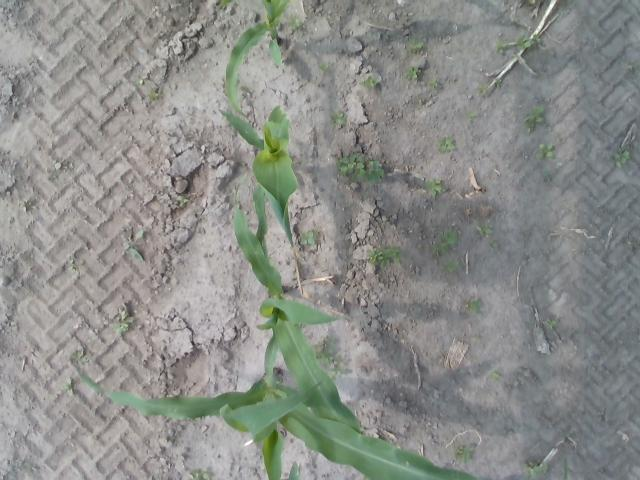Maize: (66, 363, 481, 480), (232, 184, 364, 430), (218, 106, 298, 258), (216, 0, 290, 116), (288, 461, 300, 480)
Weeds: (121, 228, 148, 262), (340, 154, 364, 177), (364, 162, 384, 184), (430, 238, 451, 253), (426, 178, 444, 195), (71, 348, 90, 364), (60, 378, 76, 396), (118, 304, 134, 322), (454, 444, 472, 460), (525, 112, 544, 127), (614, 150, 630, 167), (440, 138, 456, 154), (298, 230, 316, 244), (516, 34, 531, 50), (366, 248, 382, 262), (46, 162, 60, 178), (115, 318, 129, 334), (538, 143, 554, 157), (384, 246, 402, 258), (289, 15, 301, 32), (188, 472, 212, 480), (527, 463, 541, 476), (466, 301, 480, 314), (408, 39, 422, 52), (332, 108, 344, 122), (444, 230, 456, 243), (134, 74, 148, 85), (178, 196, 190, 208), (322, 350, 334, 362), (478, 226, 492, 236), (406, 67, 417, 78), (495, 42, 506, 52), (150, 91, 160, 101), (365, 76, 375, 86), (452, 260, 461, 271), (68, 260, 76, 272), (548, 318, 558, 327), (322, 336, 330, 346), (494, 77, 502, 86), (492, 372, 500, 380), (430, 78, 438, 86), (332, 371, 341, 378), (443, 262, 450, 270), (491, 240, 498, 248), (478, 86, 485, 94), (466, 111, 474, 118), (542, 172, 550, 178), (320, 64, 328, 70)
